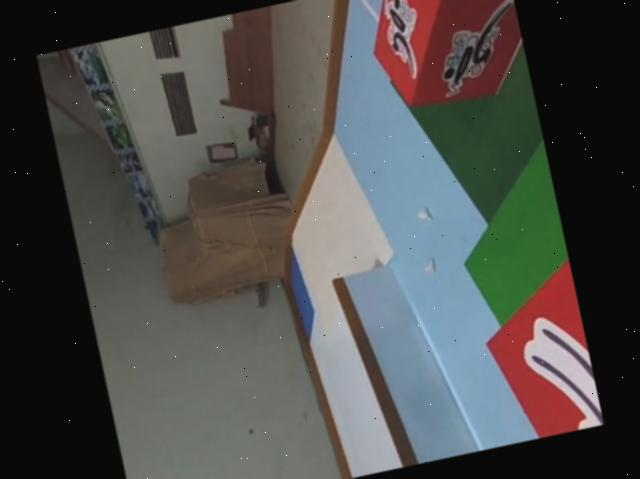R1: (354, 0, 532, 118)
R2 Fake: (463, 245, 604, 446)
